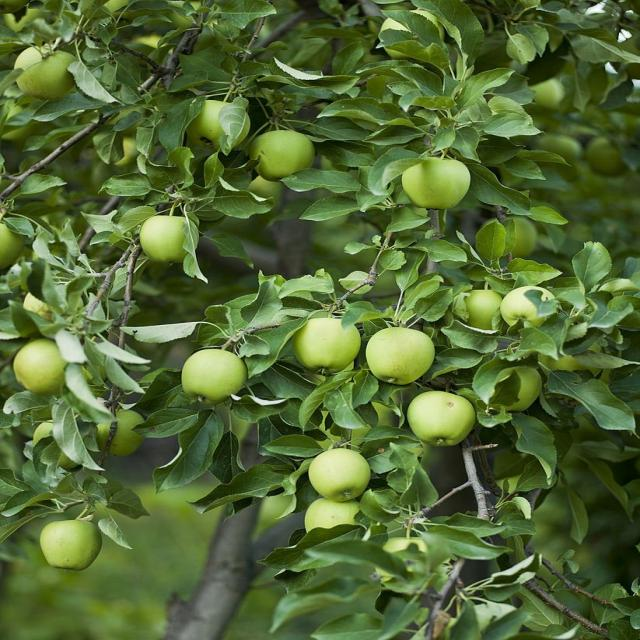Green Apple: (405, 391, 482, 449), (247, 127, 321, 181), (12, 338, 82, 395), (403, 155, 474, 211), (13, 46, 81, 103), (35, 521, 107, 574), (369, 328, 437, 384), (294, 320, 360, 373), (186, 349, 250, 402), (136, 214, 199, 267), (188, 100, 253, 150), (309, 451, 371, 501), (300, 499, 366, 540), (486, 366, 543, 413), (95, 409, 150, 457), (503, 288, 554, 330), (33, 423, 80, 468), (459, 289, 508, 327), (502, 220, 551, 251), (390, 535, 429, 573), (543, 134, 584, 158), (595, 138, 627, 167), (531, 77, 566, 103)
